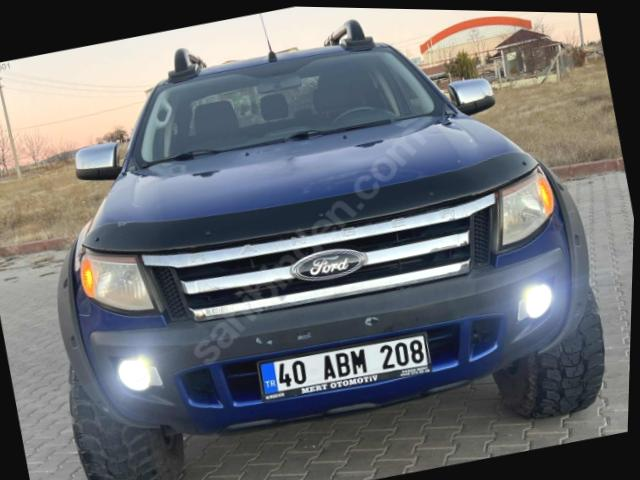plaka: (258, 334, 430, 400)
